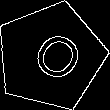O_SW: (18, 24, 83, 89)
